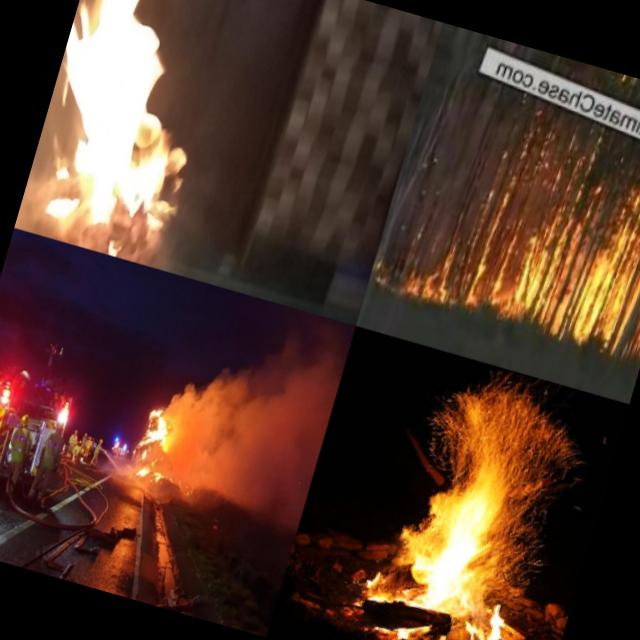fire: (352, 368, 598, 640), (13, 0, 239, 267), (410, 171, 640, 363), (127, 390, 189, 484)
smoke: (152, 301, 346, 521)
